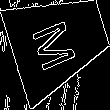M_E: (32, 11, 86, 72)
